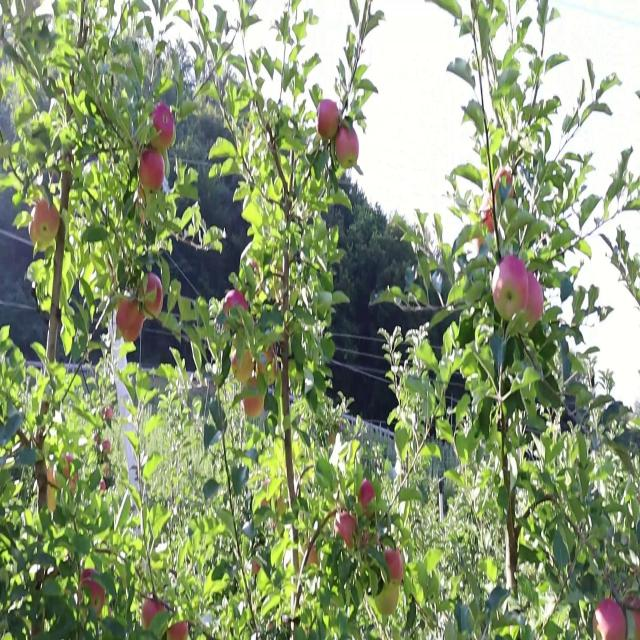apple: (492, 255, 527, 324), (80, 568, 107, 617), (520, 270, 544, 325), (116, 298, 144, 343), (596, 597, 626, 638), (32, 199, 60, 240), (140, 149, 165, 192), (336, 127, 360, 171), (152, 106, 176, 149), (224, 291, 251, 329), (372, 583, 400, 619), (140, 597, 168, 631), (320, 99, 341, 142), (144, 277, 165, 318), (232, 348, 255, 384), (336, 511, 357, 549), (384, 547, 405, 585), (256, 341, 277, 379), (244, 383, 265, 420), (64, 455, 80, 496), (496, 170, 515, 201), (360, 483, 376, 514), (168, 618, 190, 639), (629, 597, 640, 639), (136, 191, 148, 226), (48, 463, 59, 489)
